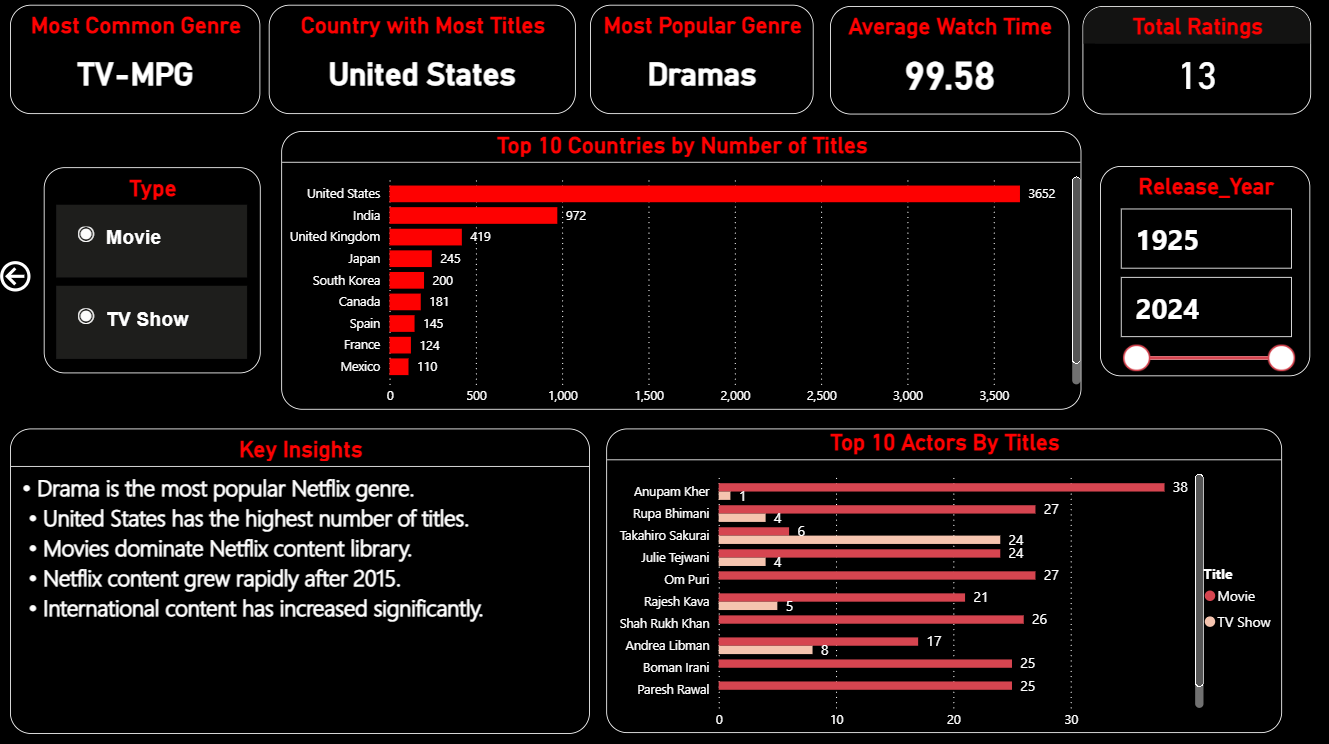

The dashboard page shown, as its layout file describes it:
{"tool":"powerbi","page":{"name":"Genre Insights","canvas":[1280,720],"ordinal":2},"visuals":[{"type":"card","title":"Most Popular Genre","fields":{"Values":["Min(category mapping.listed_in)"]},"box":[570.6,8.4,214.7,105],"z":0},{"type":"card","title":"Country with Most Titles","fields":{"Values":["Min(Netflix_Titles.country)"]},"box":[263,8.4,294.4,105],"z":1000},{"type":"card","title":"Most Common Genre","fields":{"Values":["Min(Netflix_Titles.rating)"]},"box":[14.5,8.4,240.1,105],"z":2000},{"type":"barChart","title":"Top 10 Countries by  Number of Titles","fields":{"Category":["Netflix_Titles.country"],"Y":["CountNonNull(Netflix_Titles.show_id)"]},"box":[274.1,129.8,767.5,266.9],"z":3000},{"type":"clusteredBarChart","title":"Top 10 Actors By Titles","fields":{"Category":["Cast name.cast"],"Y":["CountNonNull(Cast name.show_id)"],"Series":["Netflix_Titles.type"]},"box":[585.5,414.7,647.8,291.9],"z":4000},{"type":"advancedSlicerVisual","title":"Type","fields":{"Values":["Netflix_Titles.type"]},"box":[46.2,164.5,207.8,197.7],"z":5000},{"type":"slicer","title":"Release_Year","fields":{"Values":["Netflix_Titles.release_year"]},"box":[1059,163,202,202],"z":6000},{"type":"card","title":"Total Ratings","fields":{"Values":["Count(Netflix_Titles.rating)"]},"box":[1042.4,9.7,219.6,103.8],"z":7000},{"type":"card","title":"Average Watch Time","fields":{"Values":["Avg(Netflix_Titles.Duration in mins)"]},"box":[800.7,10.1,229.4,103.9],"z":8000},{"type":"textbox","title":"Key Insights","box":[14.1,414.1,556.3,293],"z":9000},{"type":"actionButton","box":[0,249.6,40.4,39],"z":10000}]}

Visuals, with their boxes in screenshot pixels (x1, y1, x2, y2), scaled from the page's 1280x720 canvas onto the 1329x744 screenshot:
"Most Popular Genre" card: BBox(592, 9, 815, 117)
"Country with Most Titles" card: BBox(273, 9, 579, 117)
"Most Common Genre" card: BBox(15, 9, 264, 117)
"Top 10 Countries by  Number of Titles" barChart: BBox(285, 134, 1081, 410)
"Top 10 Actors By Titles" clusteredBarChart: BBox(608, 429, 1281, 730)
"Type" advancedSlicerVisual: BBox(48, 170, 264, 374)
"Release_Year" slicer: BBox(1100, 168, 1309, 377)
"Total Ratings" card: BBox(1082, 10, 1310, 117)
"Average Watch Time" card: BBox(831, 10, 1070, 118)
"Key Insights" textbox: BBox(15, 428, 592, 731)
actionButton: BBox(0, 258, 42, 298)
